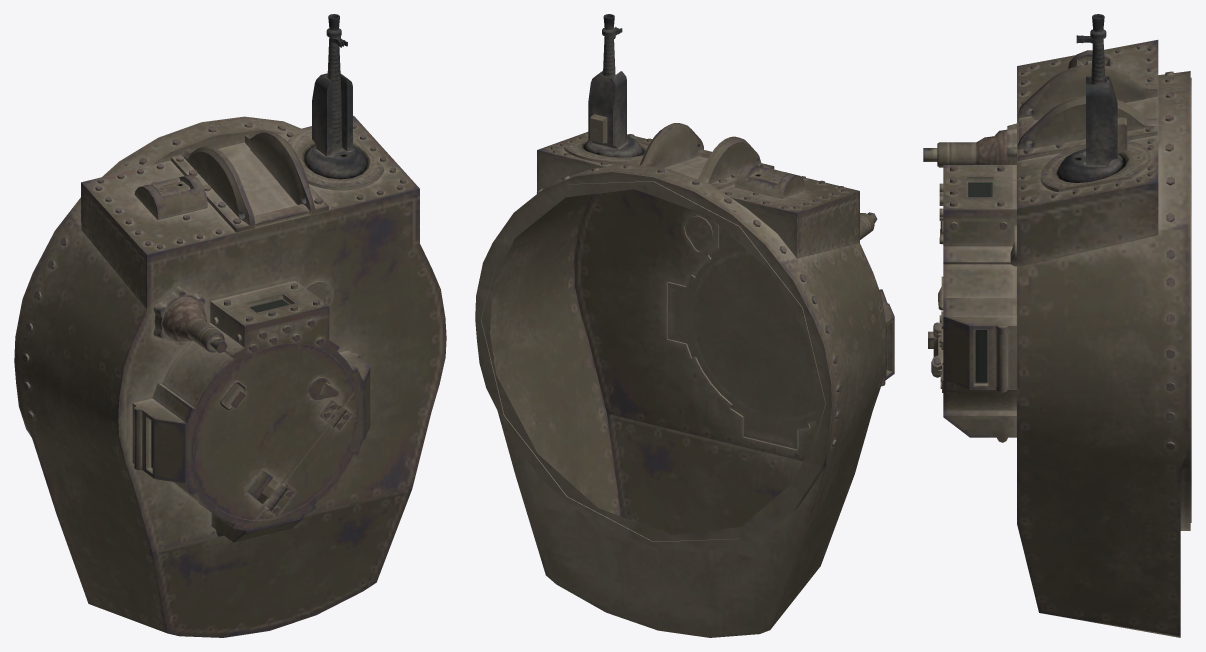
Rendered from Turret_01.glb.
3 renders of one model, left to right at view 1: azimuth 30°, elevation 25°; view 2: azimuth 150°, elevation 25°; view 3: azimuth 270°, elevation 25°, orthographic. The views are drawn at different scales.
Visible parts, largest first — view 1: set_0_group_0; view 2: set_0_group_0; view 3: set_0_group_0.
Boxes of the visible parts, left/top/right/bottom form: set_0_group_0: left=14, top=14, right=446, bottom=637; set_0_group_0: left=475, top=14, right=894, bottom=637; set_0_group_0: left=923, top=14, right=1191, bottom=637.
Size of the model in its own units: 1.37 by 2.07 by 0.7922.
1 material, 1 textured.
